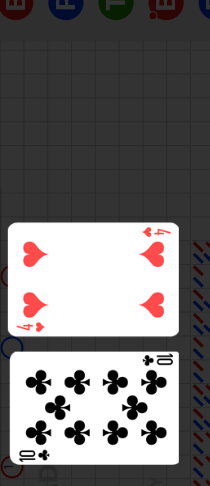10C: (140, 354, 174, 369)
4H: (140, 226, 172, 240)
